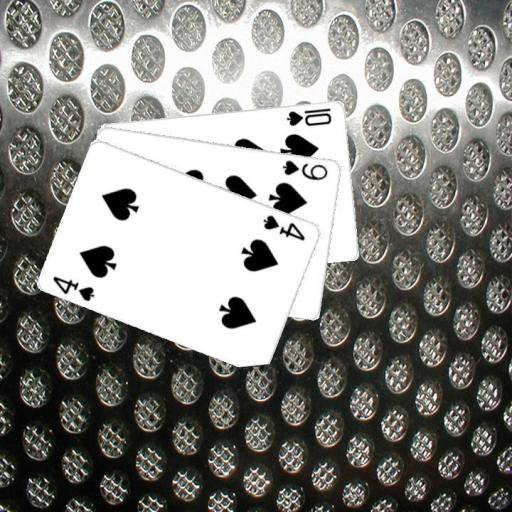10S: (284, 104, 334, 127)
4S: (260, 211, 307, 242), (50, 272, 97, 303)
9S: (279, 157, 330, 182)
